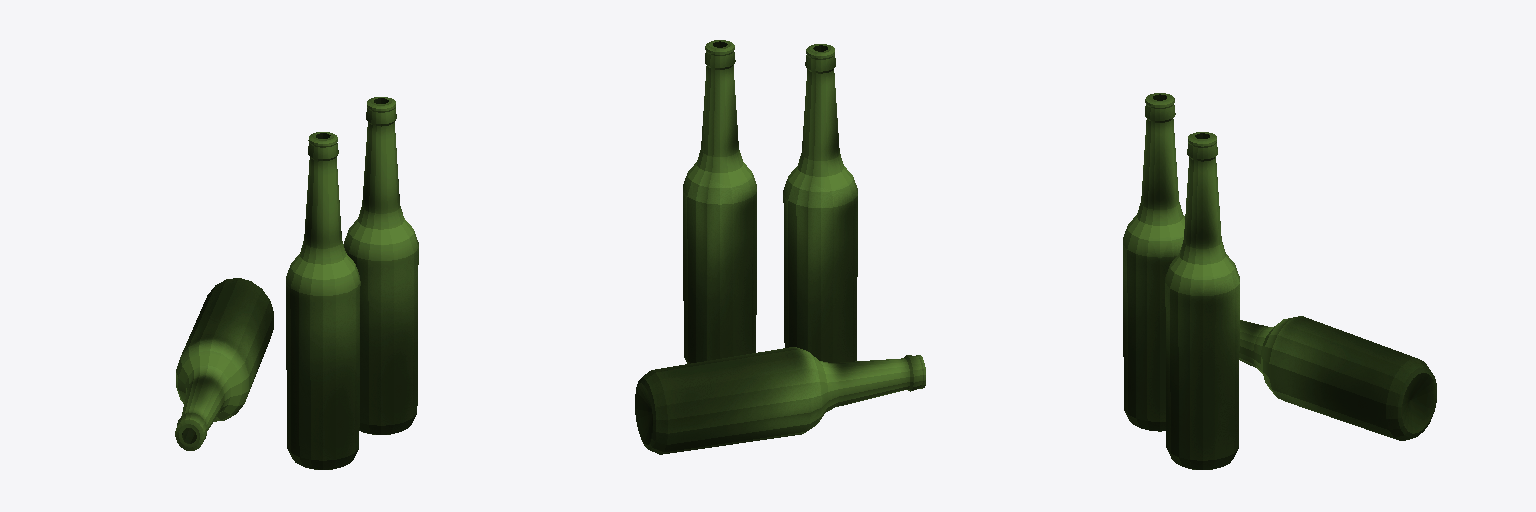
The picture shows the model from 3 angles: view 1: azimuth 30°, elevation 25°; view 2: azimuth 150°, elevation 25°; view 3: azimuth 270°, elevation 25°; orthographic projection.
Size of the model in its own units: 3.2 by 4.15 by 3.65.
1 materials, 1 textured.